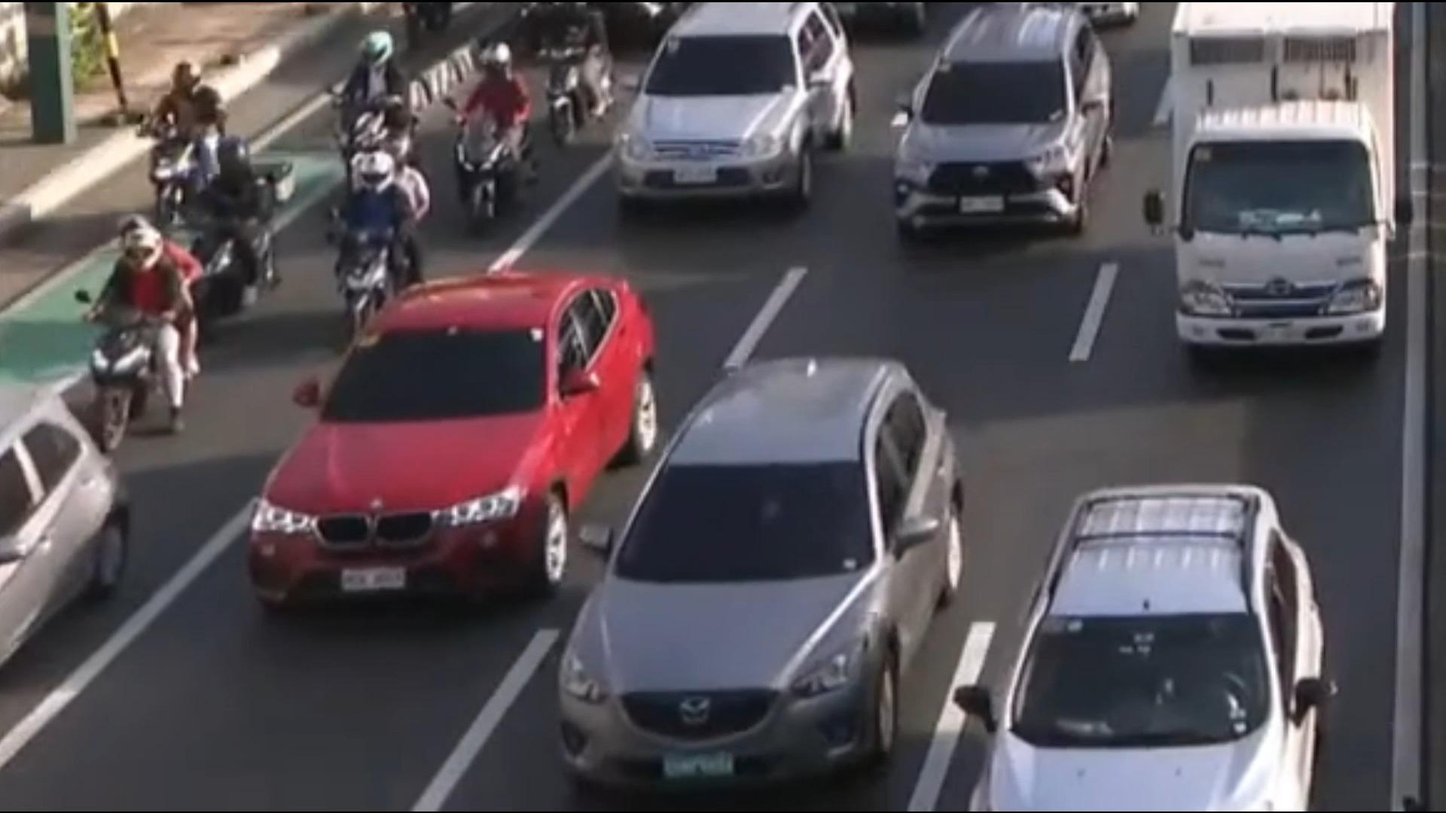Motorcycle: (71, 215, 206, 455), (331, 142, 440, 340), (190, 146, 294, 318), (449, 41, 531, 234), (137, 59, 229, 223), (335, 26, 418, 177), (542, 0, 612, 146)
SUV: (553, 354, 956, 797), (956, 486, 1342, 813), (610, 0, 859, 220), (892, 4, 1115, 242)
Sedan: (249, 266, 656, 625)
Truck: (1166, 0, 1401, 360)
